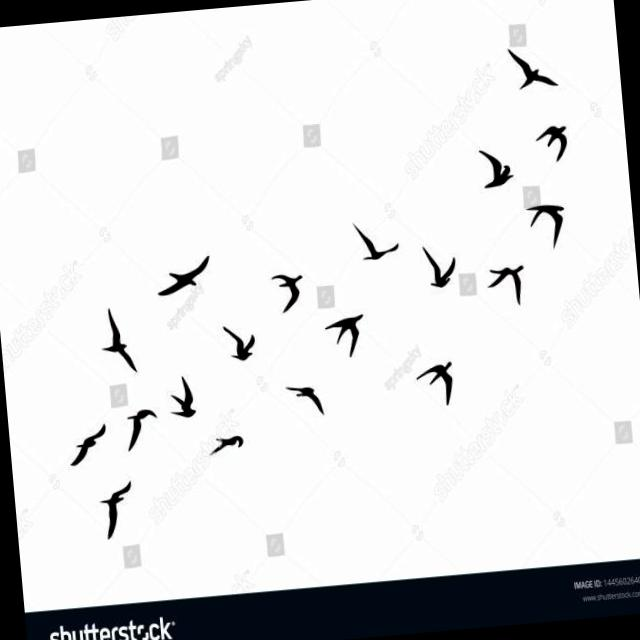bird: (398, 334, 469, 432), (489, 33, 572, 98), (344, 206, 418, 276), (90, 295, 148, 382), (254, 251, 312, 329), (88, 470, 138, 557), (154, 242, 216, 312), (60, 403, 120, 473), (517, 188, 577, 257), (468, 134, 525, 205), (104, 379, 162, 448), (401, 238, 460, 304), (528, 109, 588, 171), (320, 300, 374, 365), (278, 362, 334, 422), (478, 248, 530, 312), (210, 310, 264, 368), (198, 412, 255, 462), (155, 362, 194, 429)
